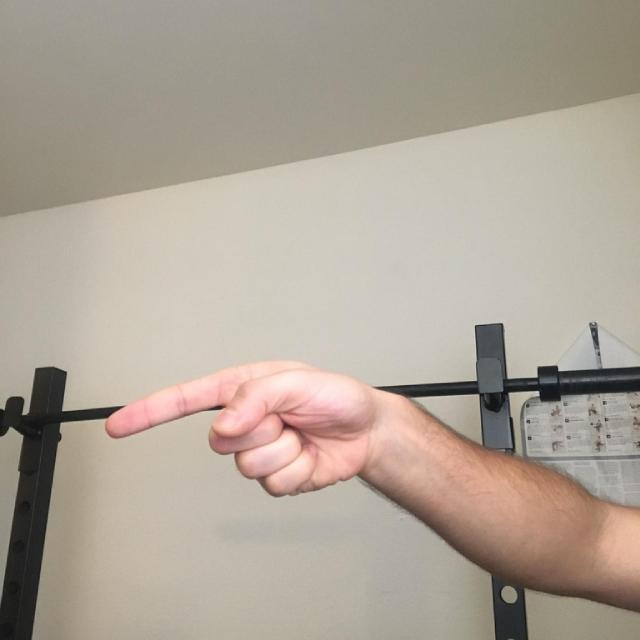G: (82, 319, 451, 508)
